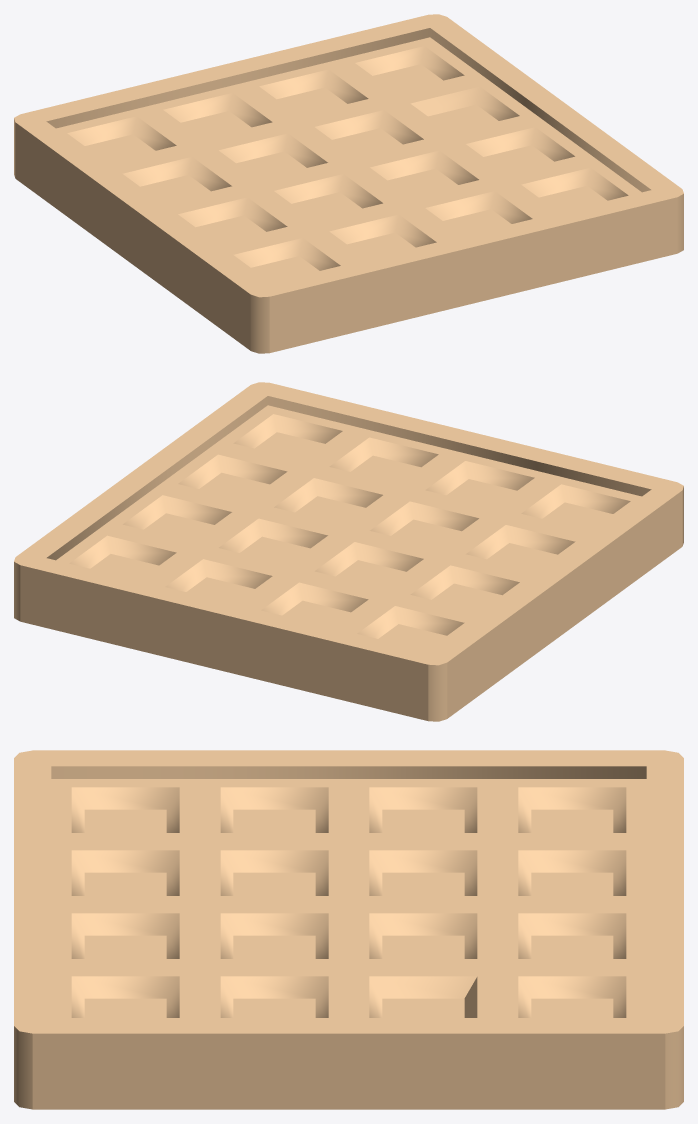
Rendered from Waffle.glb.
The picture shows the model from 3 angles, top to bottom: view 1: azimuth 30°, elevation 25°; view 2: azimuth 150°, elevation 25°; view 3: azimuth 270°, elevation 25°; orthographic projection. The views are drawn at different scales.
Visible parts, largest first — view 1: Waffle; view 2: Waffle; view 3: Waffle.
Boxes of the visible parts, x1,y1,x2,y2 form: Waffle: (14, 14, 683, 353); Waffle: (14, 382, 683, 721); Waffle: (14, 750, 683, 1109).
Size of the model in its own units: 0.3204 by 0.04 by 0.3204.
